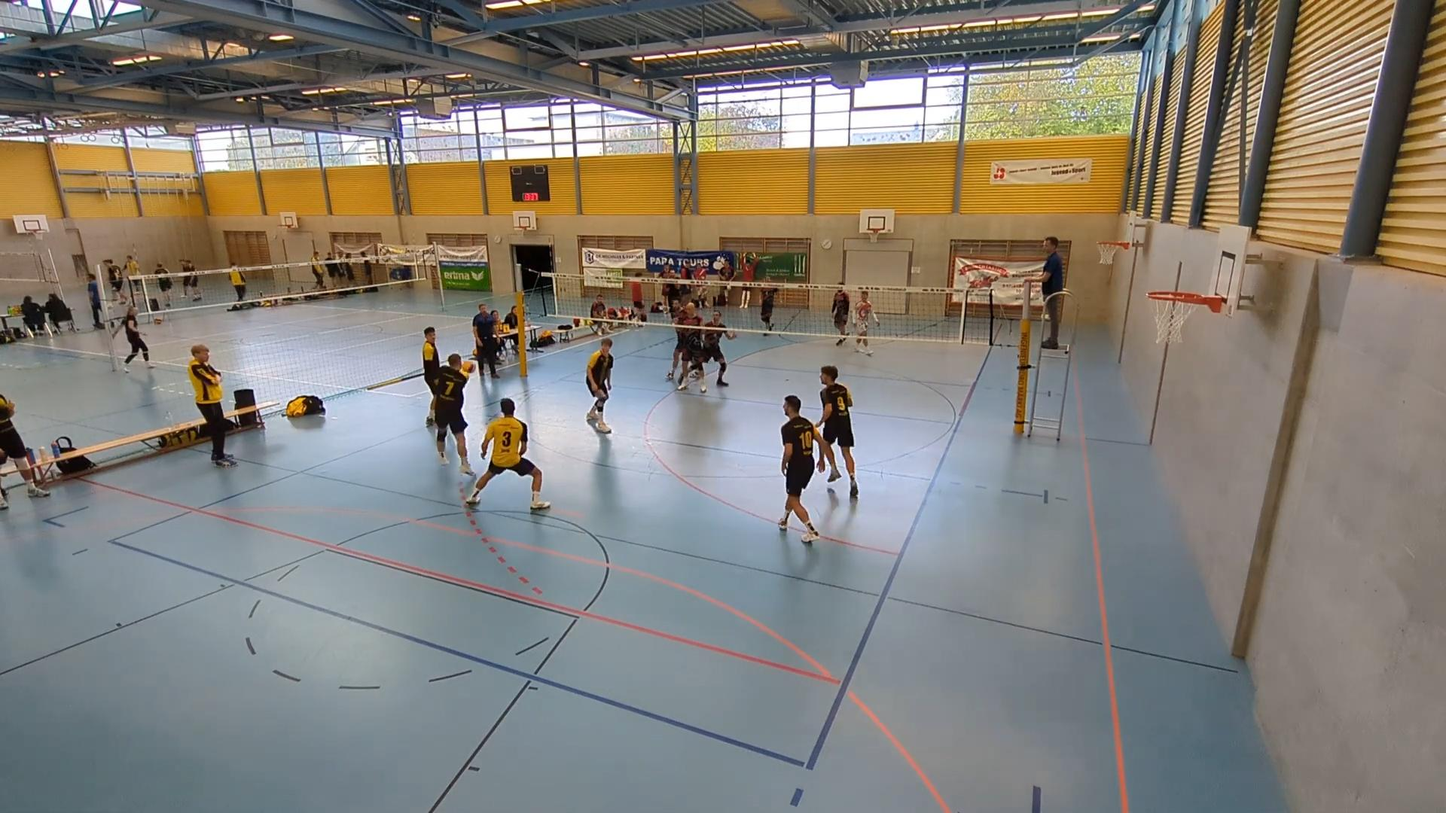ricezione: (430, 349, 478, 476)
